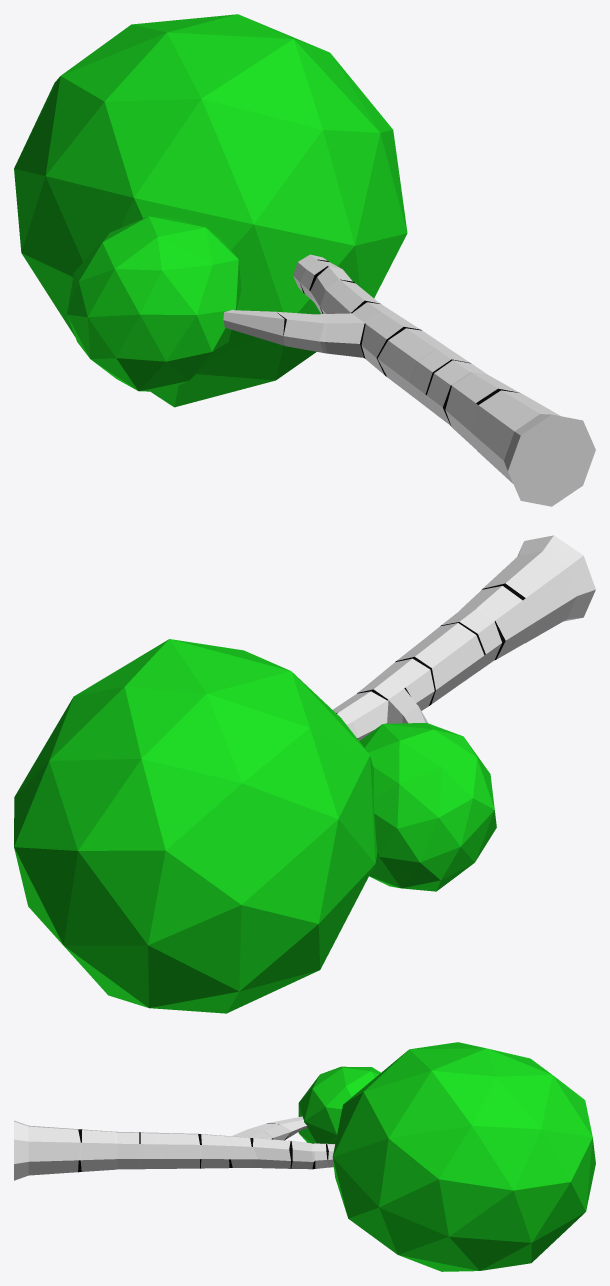
File: BirchTree_4.fbx
3 renders of one model, top to bottom at view 1: azimuth 30°, elevation 25°; view 2: azimuth 150°, elevation 25°; view 3: azimuth 270°, elevation 25°, orthographic. The views are drawn at different scales.
Parts seen in each view (by area): view 1: BirchTree_4; view 2: BirchTree_4; view 3: BirchTree_4.
Boxes of the visible parts, <box> form: BirchTree_4: <box>14,14,595,506</box>; BirchTree_4: <box>14,535,595,1013</box>; BirchTree_4: <box>14,1042,595,1271</box>.
Bounding box in the file's own units: 278 × 238 × 586.
